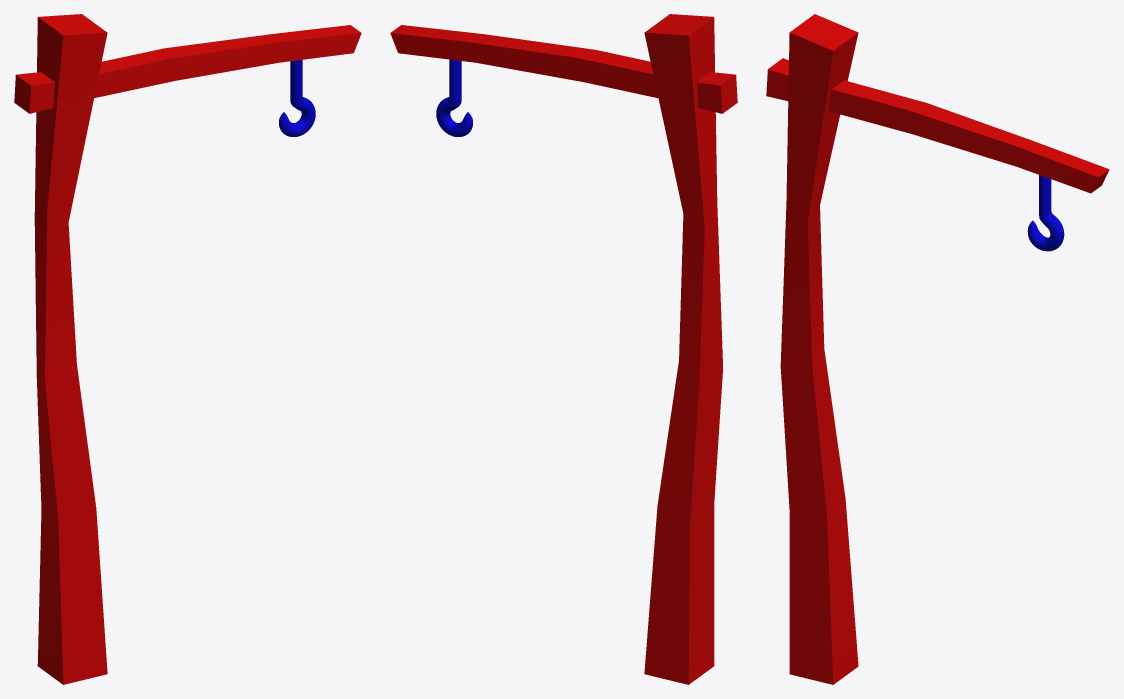
File: SM_LanternStand.fbx
The picture shows the model from 3 angles, left to right: view 1: azimuth 30°, elevation 25°; view 2: azimuth 150°, elevation 25°; view 3: azimuth 330°, elevation 25°; orthographic projection.
Visible parts, largest first — view 1: pCube3; view 2: pCube3; view 3: pCube3.
Boxes of the visible parts, x1=… form: pCube3: x1=14, y1=14, x2=361, y2=684; pCube3: x1=390, y1=14, x2=737, y2=684; pCube3: x1=766, y1=14, x2=1109, y2=684.
Size of the model in its own units: 246 by 457 by 32.62.
